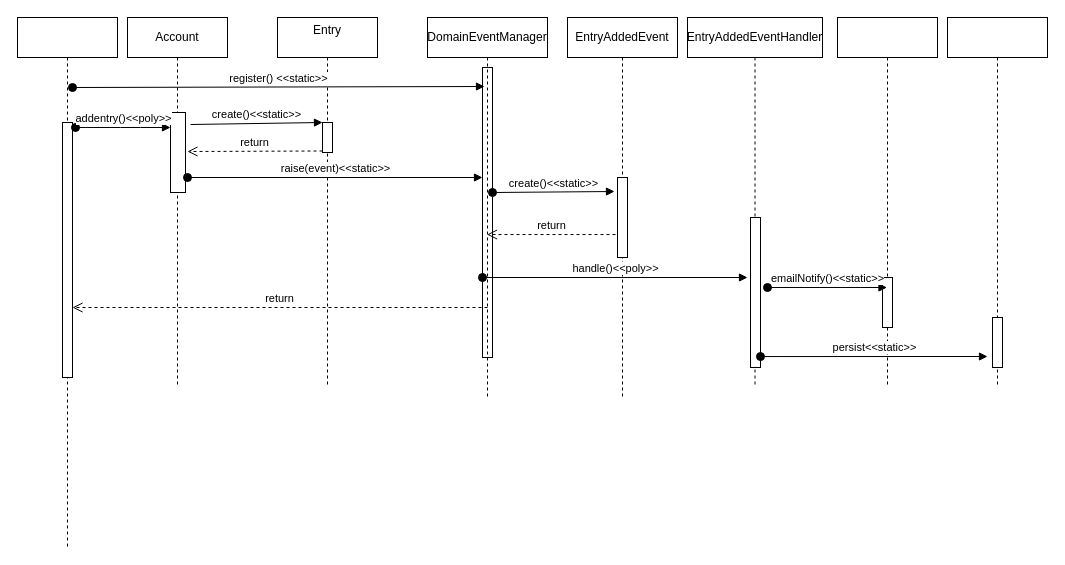
Image size: 1065x565. Some labels were removed from this diagram. Here are the shapes that lost their labels. From the top down, the box of each, then its label:
(836, 16, 938, 388): NotificationService
(946, 16, 1048, 388): DbContext
(16, 16, 118, 548): UIController
